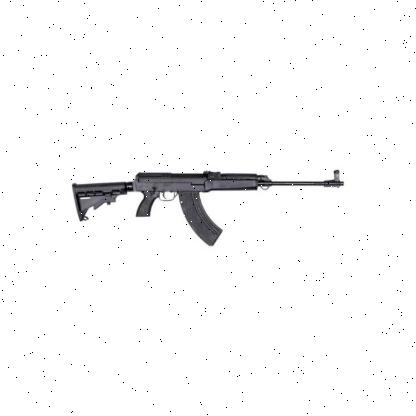gun: (64, 167, 346, 251)
